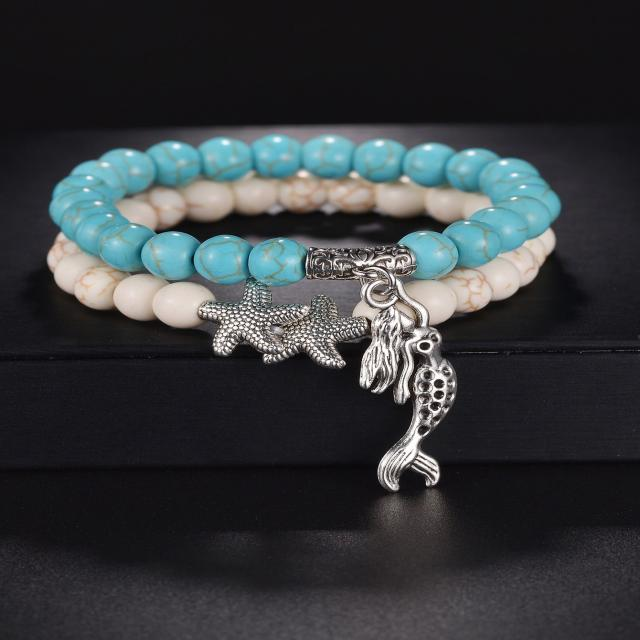bracelet: (11, 73, 640, 543)
